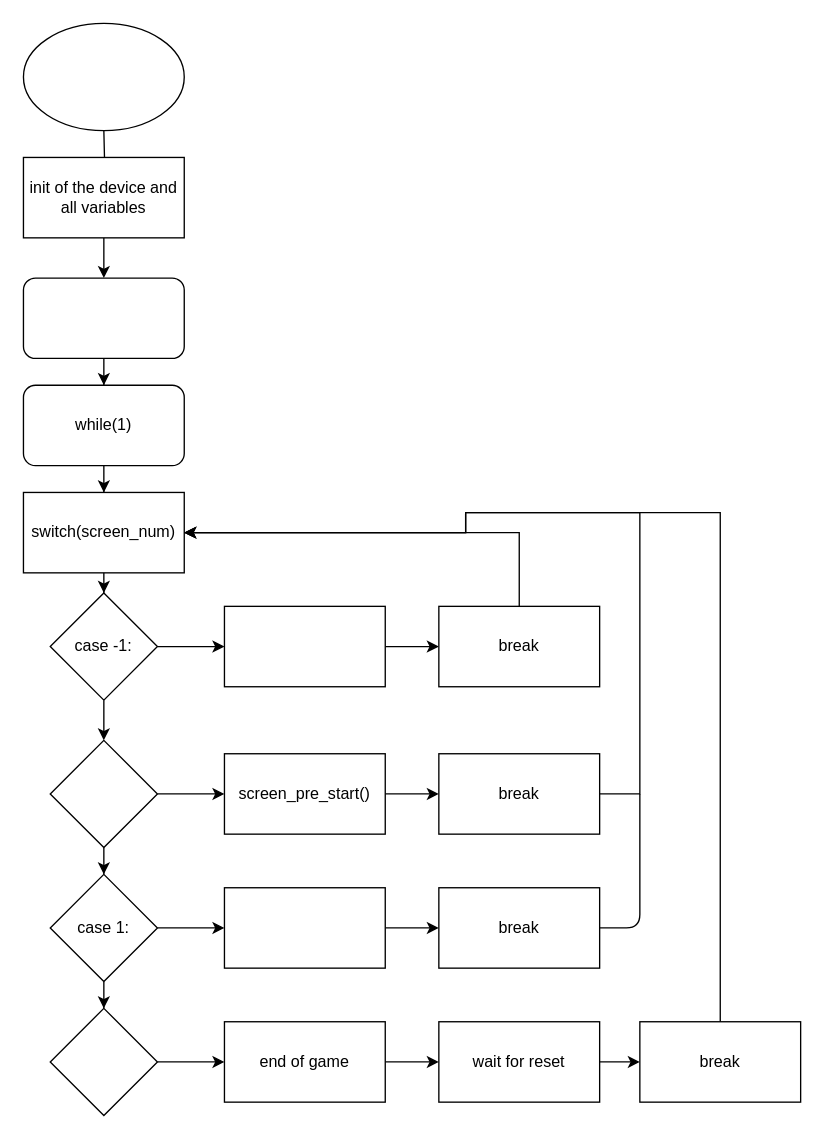
This 824x1139 diagram has some shape labels left out. The shapes that lost their labels are listed below. From the top down, each one's centre as x and y in pixels, then its label:
At (103,76): "START".
At (103,317): "main loop".
At (304,646): "Init()".
At (103,793): "case 0:".
At (304,927): "screen_game()".
At (103,1061): "case 2:".
